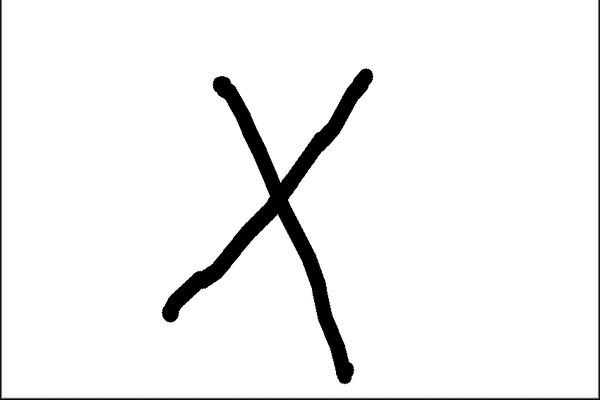X: (127, 42, 428, 399)
